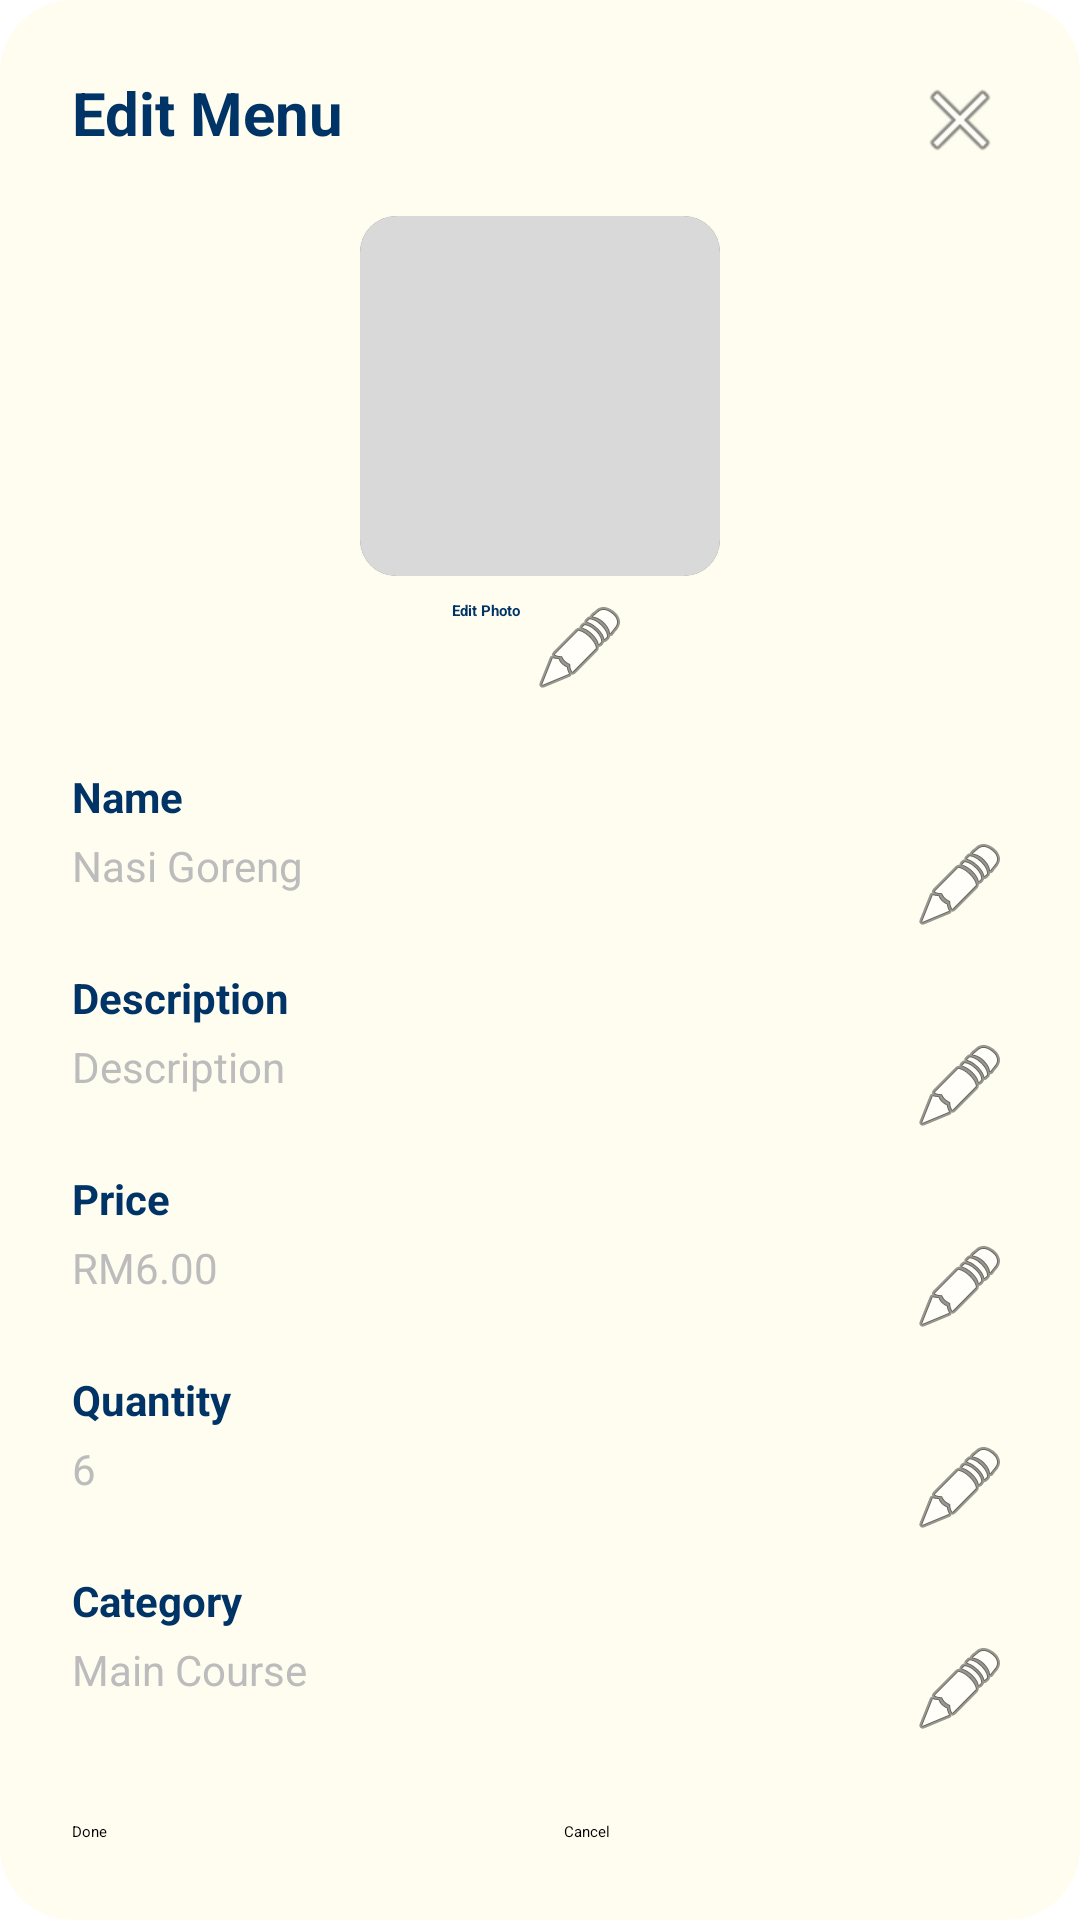

Where to tap for icons on this 1080 × 1920 app screen, as [x,y]:
close clear cancel: [960,120]
